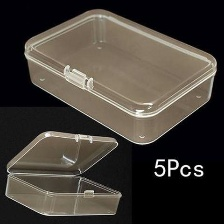plastic_box: (18, 2, 222, 150), (0, 124, 127, 221)
